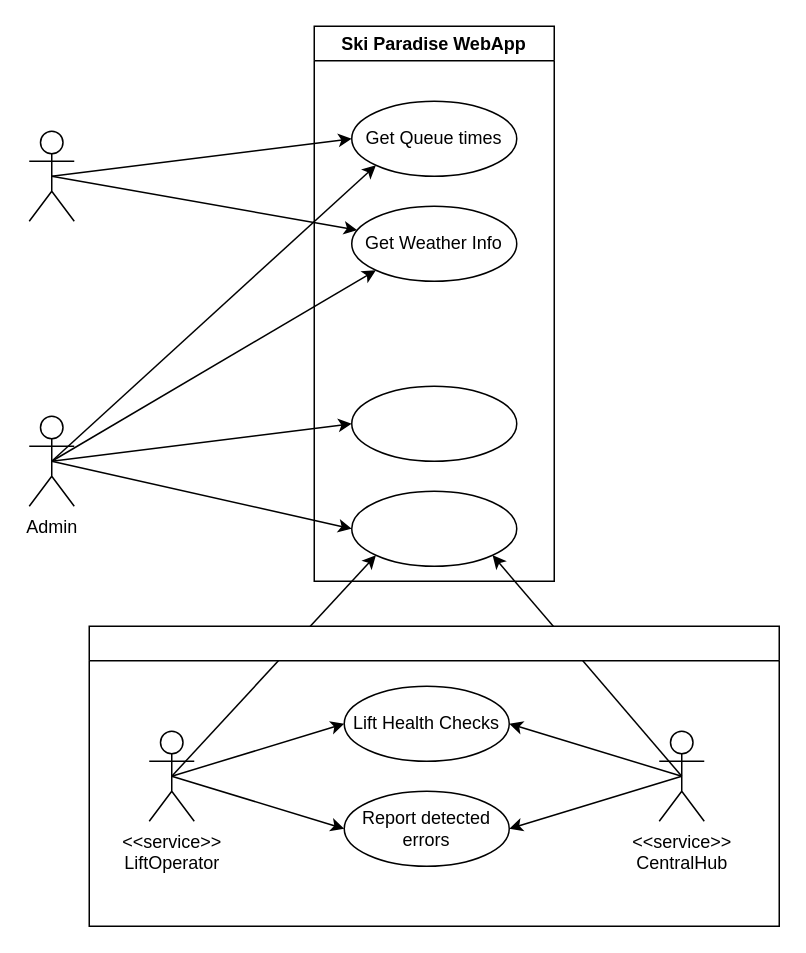
This 806x953 diagram has some shape labels left out. Here are the shapes that lost their labels. From the top down, the centre of each, then its label:
point (51, 175): User
point (433, 423): Get Lift Status info
point (433, 528): Send operation instructions
point (433, 775): Ski Lift Control system
